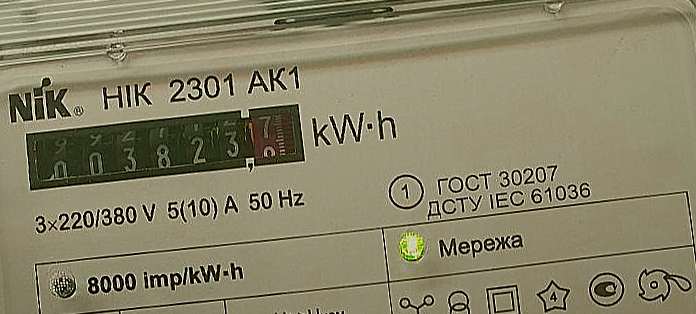0: (83, 147, 106, 176), (50, 155, 70, 180)
2: (187, 132, 210, 166)
3: (222, 127, 243, 159), (119, 141, 140, 172)
7: (257, 112, 276, 142)
8: (153, 139, 173, 169)
9: (49, 134, 69, 155)
screen: (16, 94, 311, 200)
